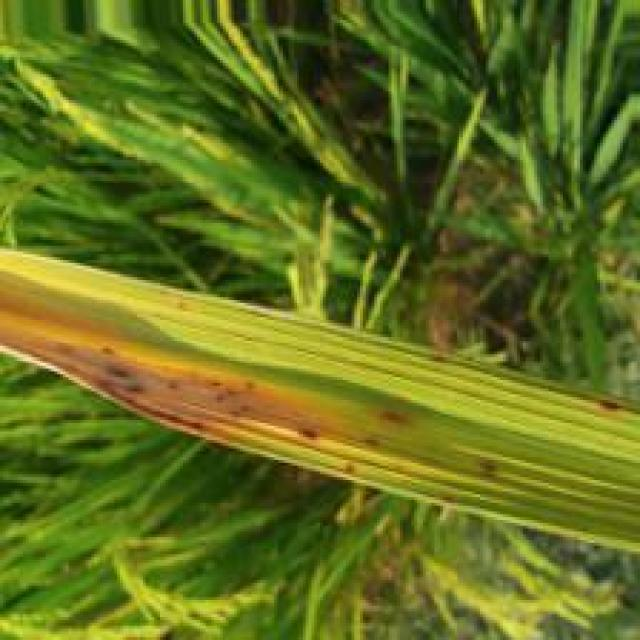Bacterial_Leaf_Blight: (0, 236, 442, 499)
